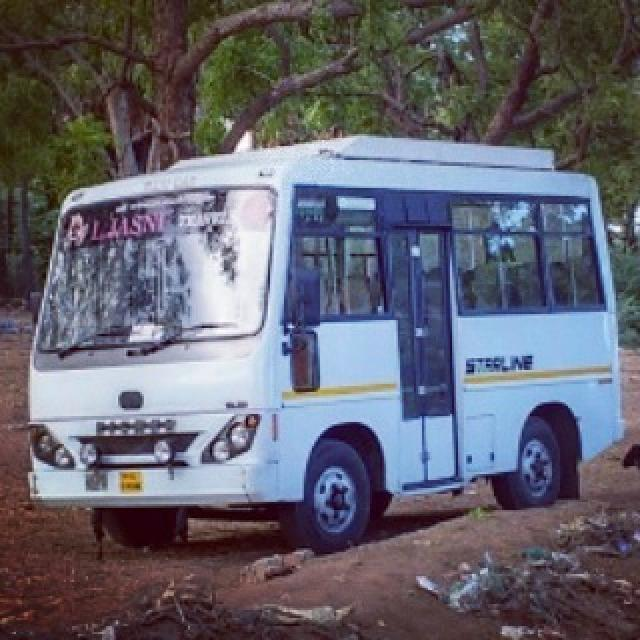Bus: (22, 130, 626, 550)
